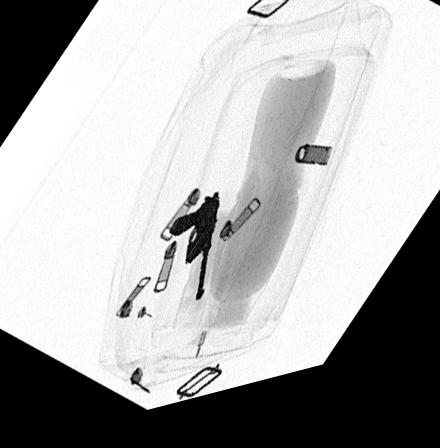Gun: (167, 199, 219, 312)
